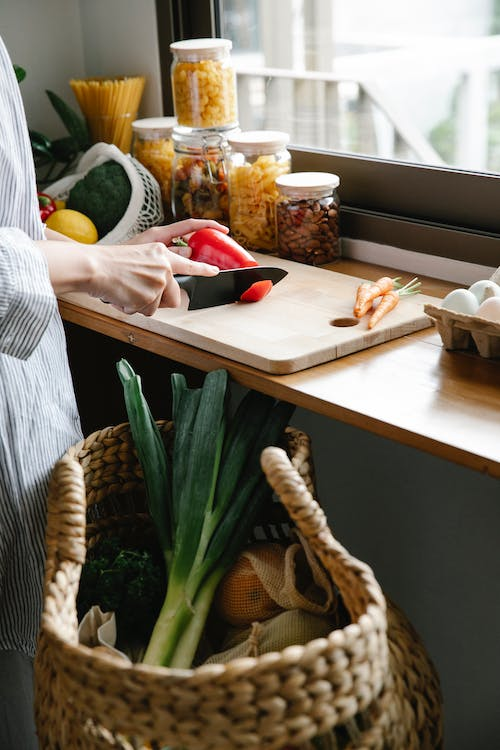knife: (97, 263, 290, 316)
